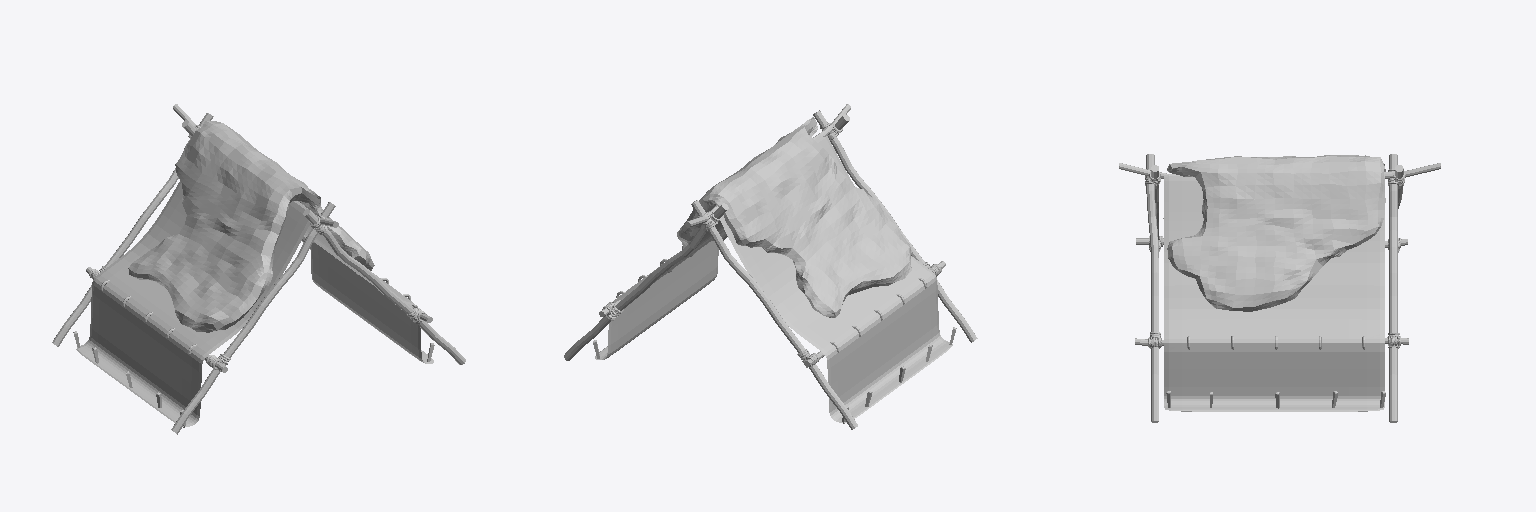
The model's file is midpoly_viking_tent_002.obj.
3 views of the same model, side by side, from view 1: azimuth 30°, elevation 25°; view 2: azimuth 150°, elevation 25°; view 3: azimuth 270°, elevation 25° (orthographic).
Visible parts, largest first — view 1: Cylinder.001, Cylinder.026, Cylinder.012, Cylinder.013, Cylinder.010, BezierCircle.104; view 2: Cylinder.026, Cylinder.001, Cylinder.010, Cylinder.009, Cylinder.012, BezierCircle.104; view 3: Cylinder.026, Cylinder.001, Cylinder.009, Cylinder.013, BezierCircle.104, Cylinder.011.
Boxes of the visible parts, x1,y1,x2,y2 form: Cylinder.001: [128, 121, 374, 332]; Cylinder.026: [76, 181, 433, 426]; Cylinder.012: [171, 202, 335, 434]; Cylinder.013: [303, 209, 465, 364]; Cylinder.010: [52, 113, 213, 346]; BezierCircle.104: [89, 125, 426, 371]; Cylinder.026: [595, 132, 952, 422]; Cylinder.001: [677, 117, 911, 317]; Cylinder.010: [691, 200, 857, 429]; Cylinder.009: [564, 203, 728, 360]; Cylinder.012: [813, 110, 977, 342]; BezierCircle.104: [602, 123, 941, 367]; Cylinder.026: [1164, 174, 1384, 411]; Cylinder.001: [1163, 155, 1385, 311]; Cylinder.009: [1389, 154, 1397, 422]; Cylinder.013: [1146, 154, 1158, 422]; BezierCircle.104: [1145, 169, 1404, 348]; Cylinder.011: [1119, 163, 1440, 178].
Bounding box in the file's own units: 7.45 × 4.84 × 7.06.